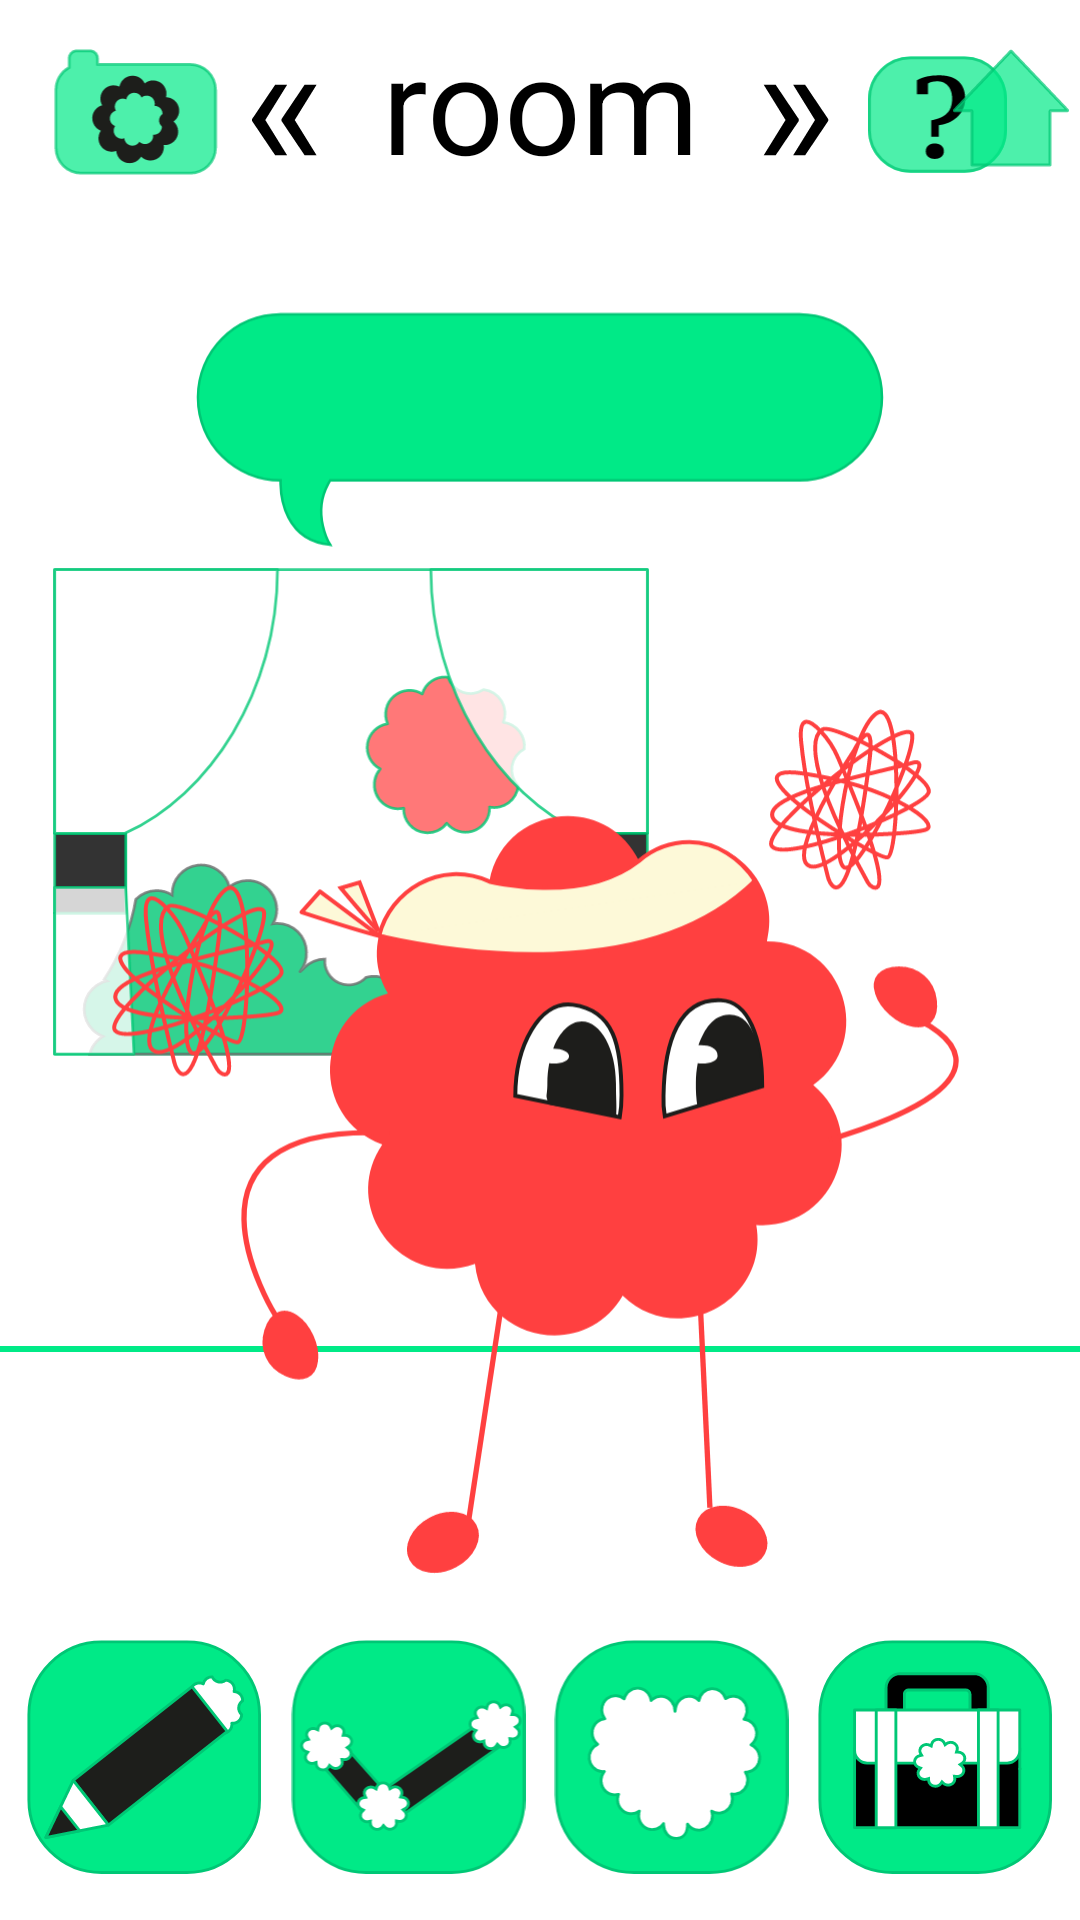

Point at icon controls on the screen. Image size 1080*1920, points as point (x, y).
bag: point (935, 1757)
check list: point (408, 1757)
heart: point (671, 1757)
left arrow: point (284, 120)
pencil: point (144, 1757)
right arrow: point (796, 120)
